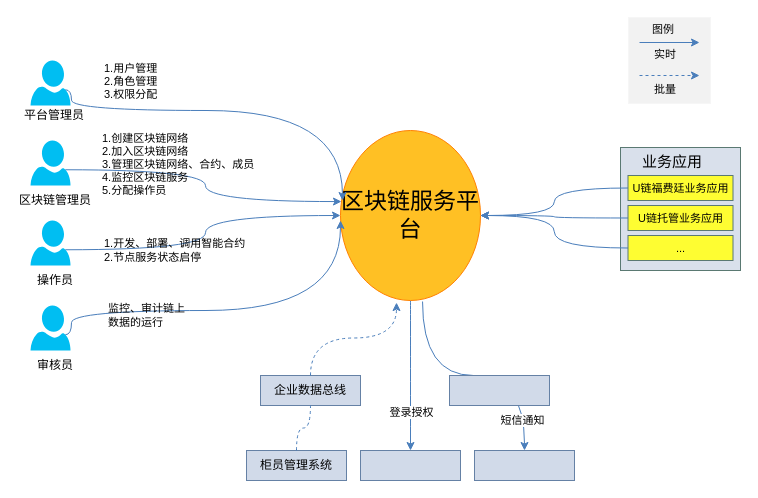
The diagram is 758 pixels wide and 498 high, and some of its shapes have lost their labels. The centre of each missing label's shape, as x and y in pixels:
企业服务总线: point 499,390
渠道管理平台: point 410,465
短信平台: point 524,465
